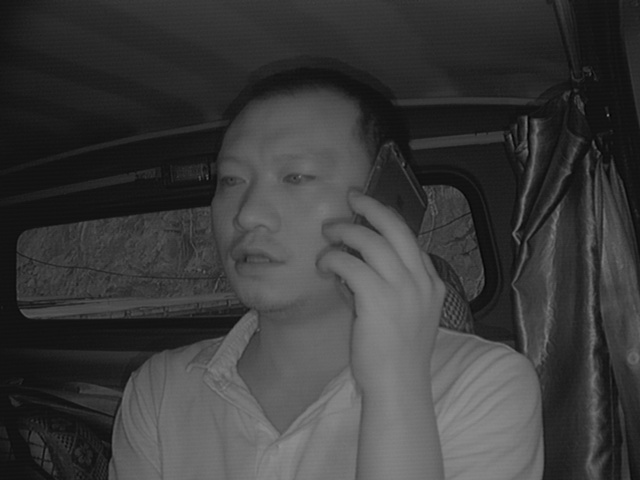hand: (324, 194, 449, 387)
